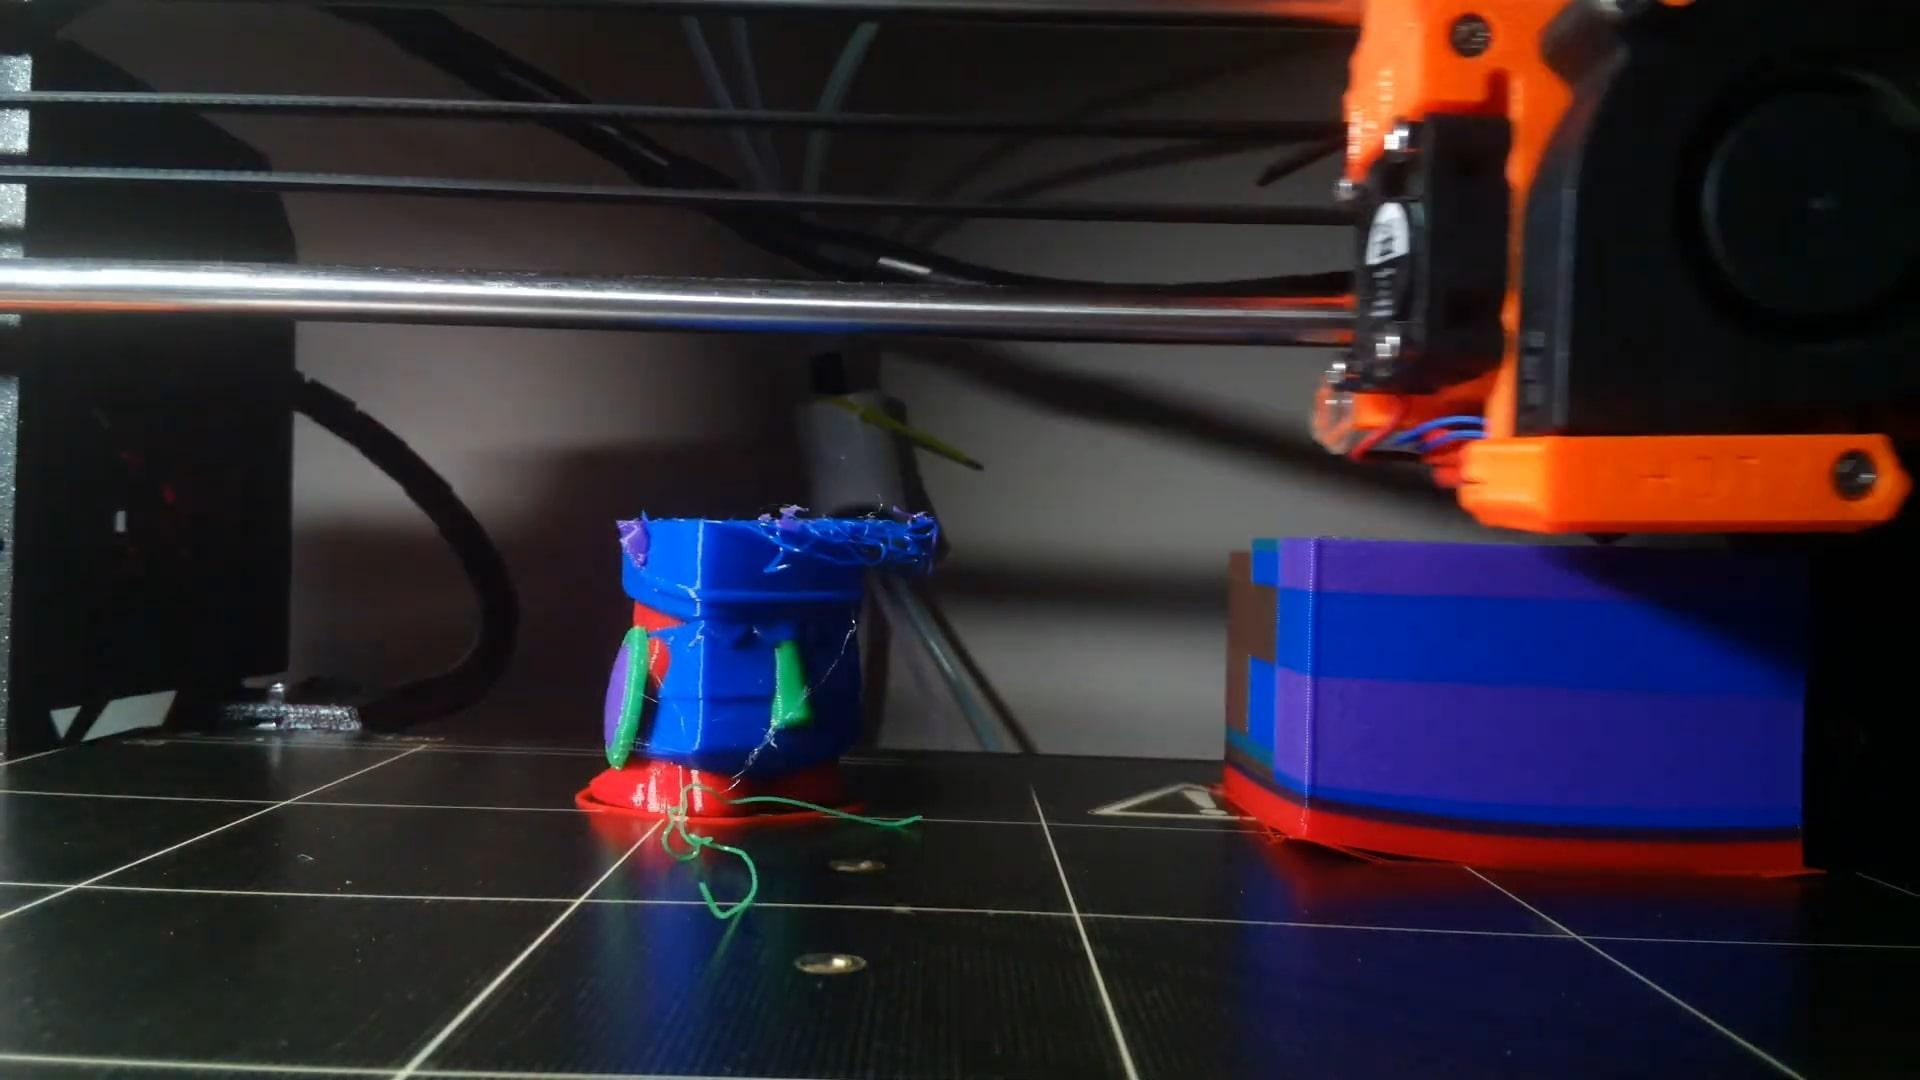Printing-Artifact: (740, 465, 961, 587)
